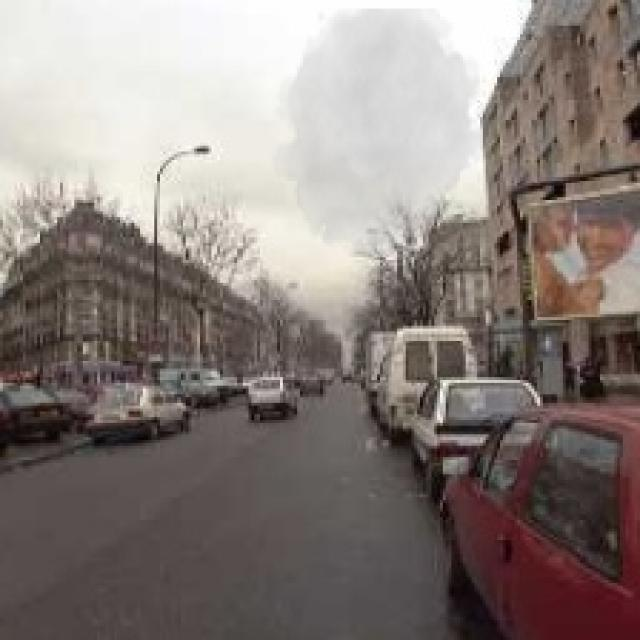Smoke: (272, 9, 488, 258)
